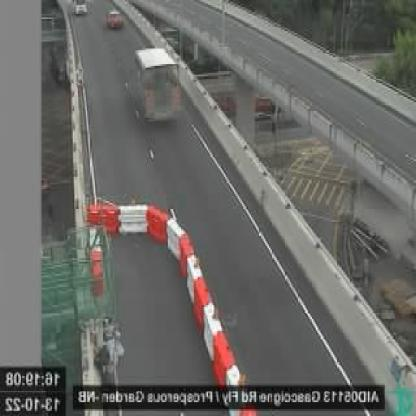Car: (104, 8, 123, 30), (73, 1, 89, 16)
Truck: (131, 45, 181, 127)
